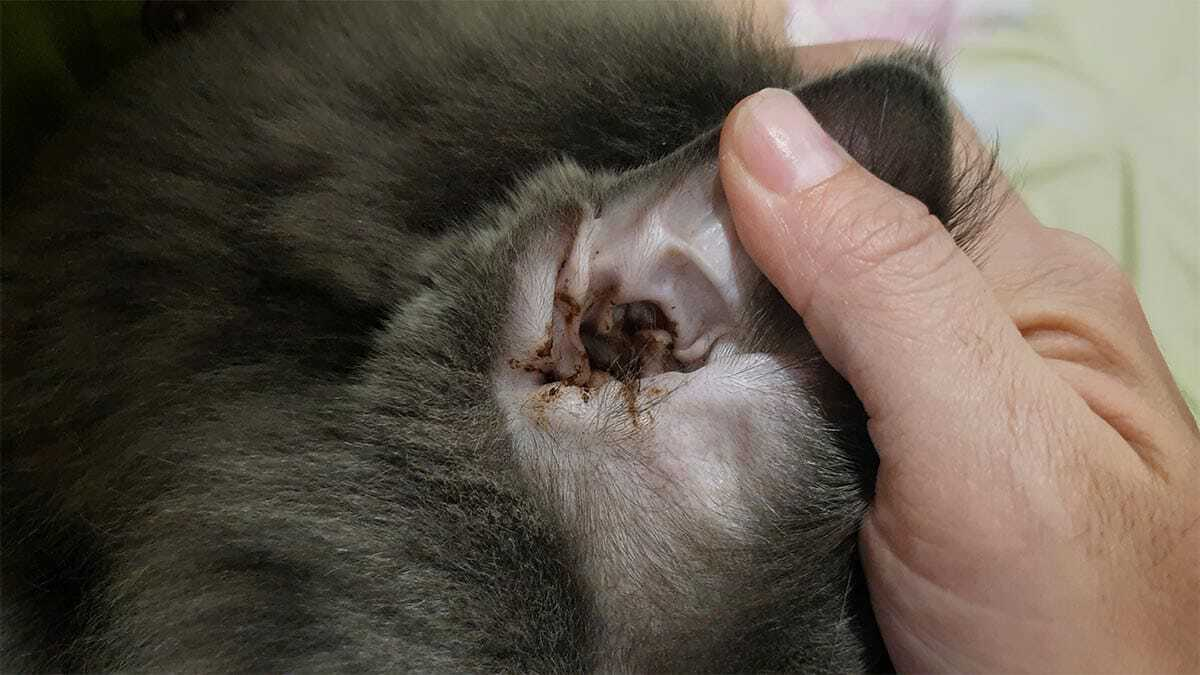tungau: (600, 311, 661, 365), (507, 337, 558, 385), (615, 377, 657, 425), (546, 289, 586, 325), (530, 387, 563, 421)
